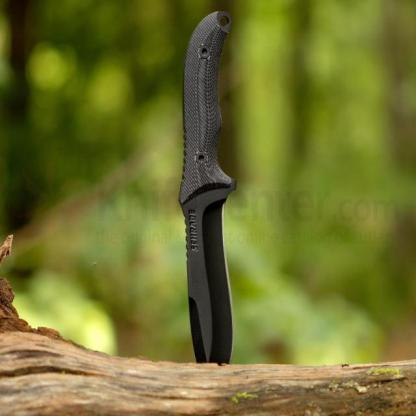Knife: (176, 5, 241, 369)
